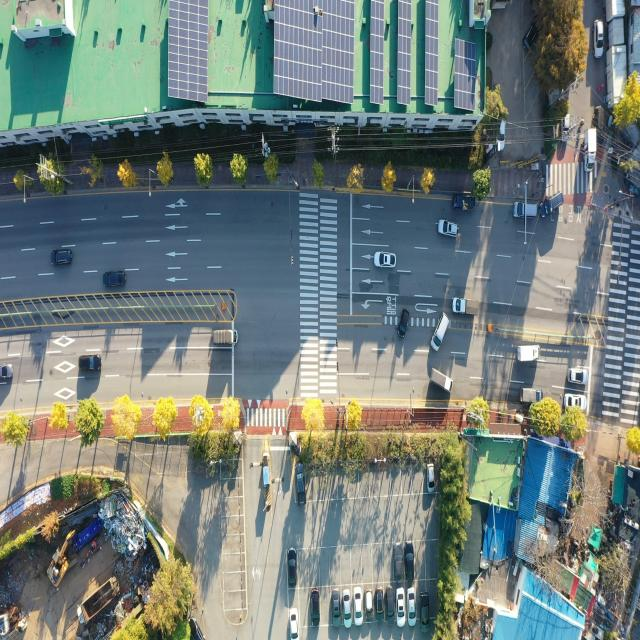car: (539, 191, 565, 219), (430, 315, 449, 352), (523, 18, 541, 54), (512, 199, 536, 219), (592, 19, 604, 58), (419, 591, 430, 630), (405, 538, 414, 584), (394, 542, 404, 583), (80, 354, 103, 371), (331, 588, 341, 626), (439, 219, 460, 237), (497, 118, 507, 155), (376, 251, 398, 267), (296, 464, 305, 503), (374, 587, 384, 622), (397, 309, 409, 338), (288, 550, 297, 588), (54, 249, 74, 266), (105, 272, 126, 288), (563, 394, 585, 409), (312, 590, 321, 626), (386, 586, 394, 624), (569, 367, 587, 383), (409, 590, 417, 626), (344, 591, 352, 627), (561, 111, 570, 143), (396, 588, 404, 623), (289, 609, 298, 640), (354, 589, 362, 623), (365, 590, 372, 624), (428, 462, 435, 492), (0, 363, 13, 379)
small_truck: (583, 126, 598, 174), (428, 367, 453, 392), (516, 342, 541, 363), (518, 387, 542, 408), (452, 300, 481, 316), (214, 329, 239, 347), (451, 195, 476, 212)
